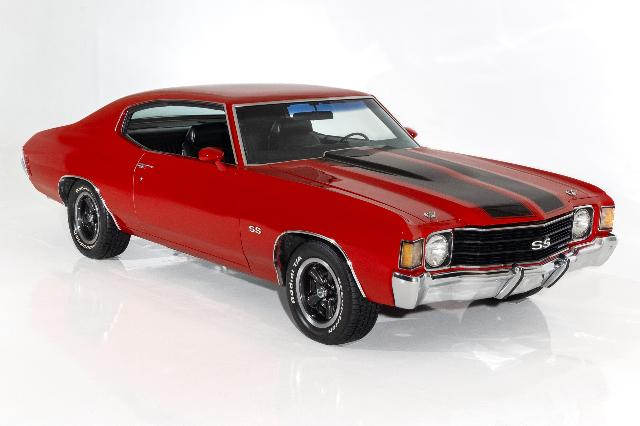chevelle-1972: (21, 84, 618, 344)
